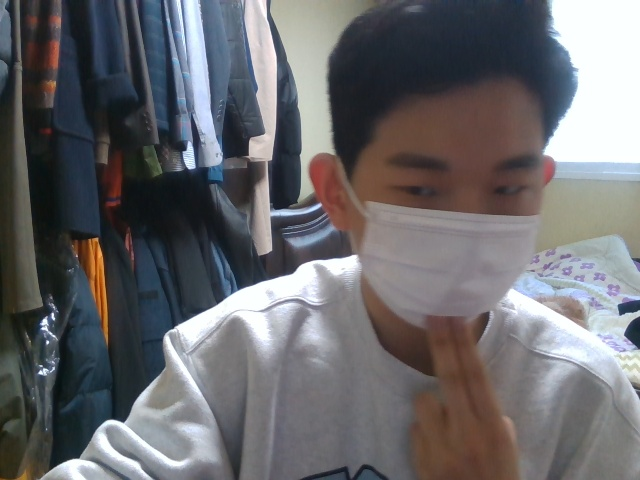DHAVE: (409, 314, 519, 480)
